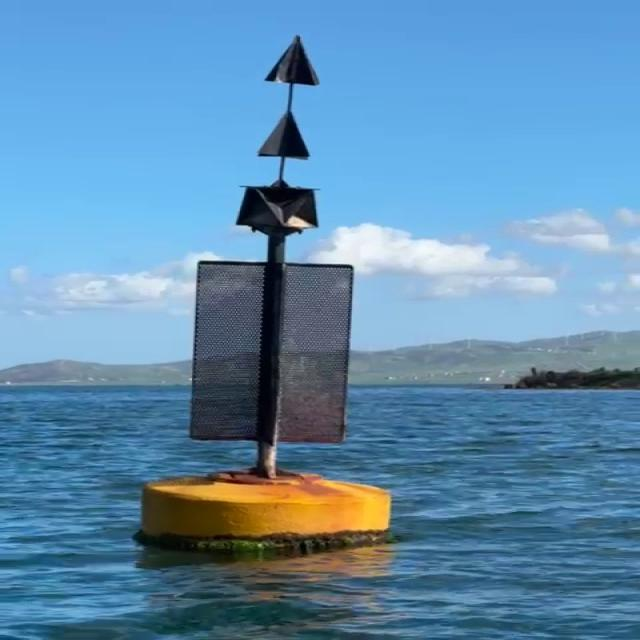marque: (147, 21, 398, 560)
